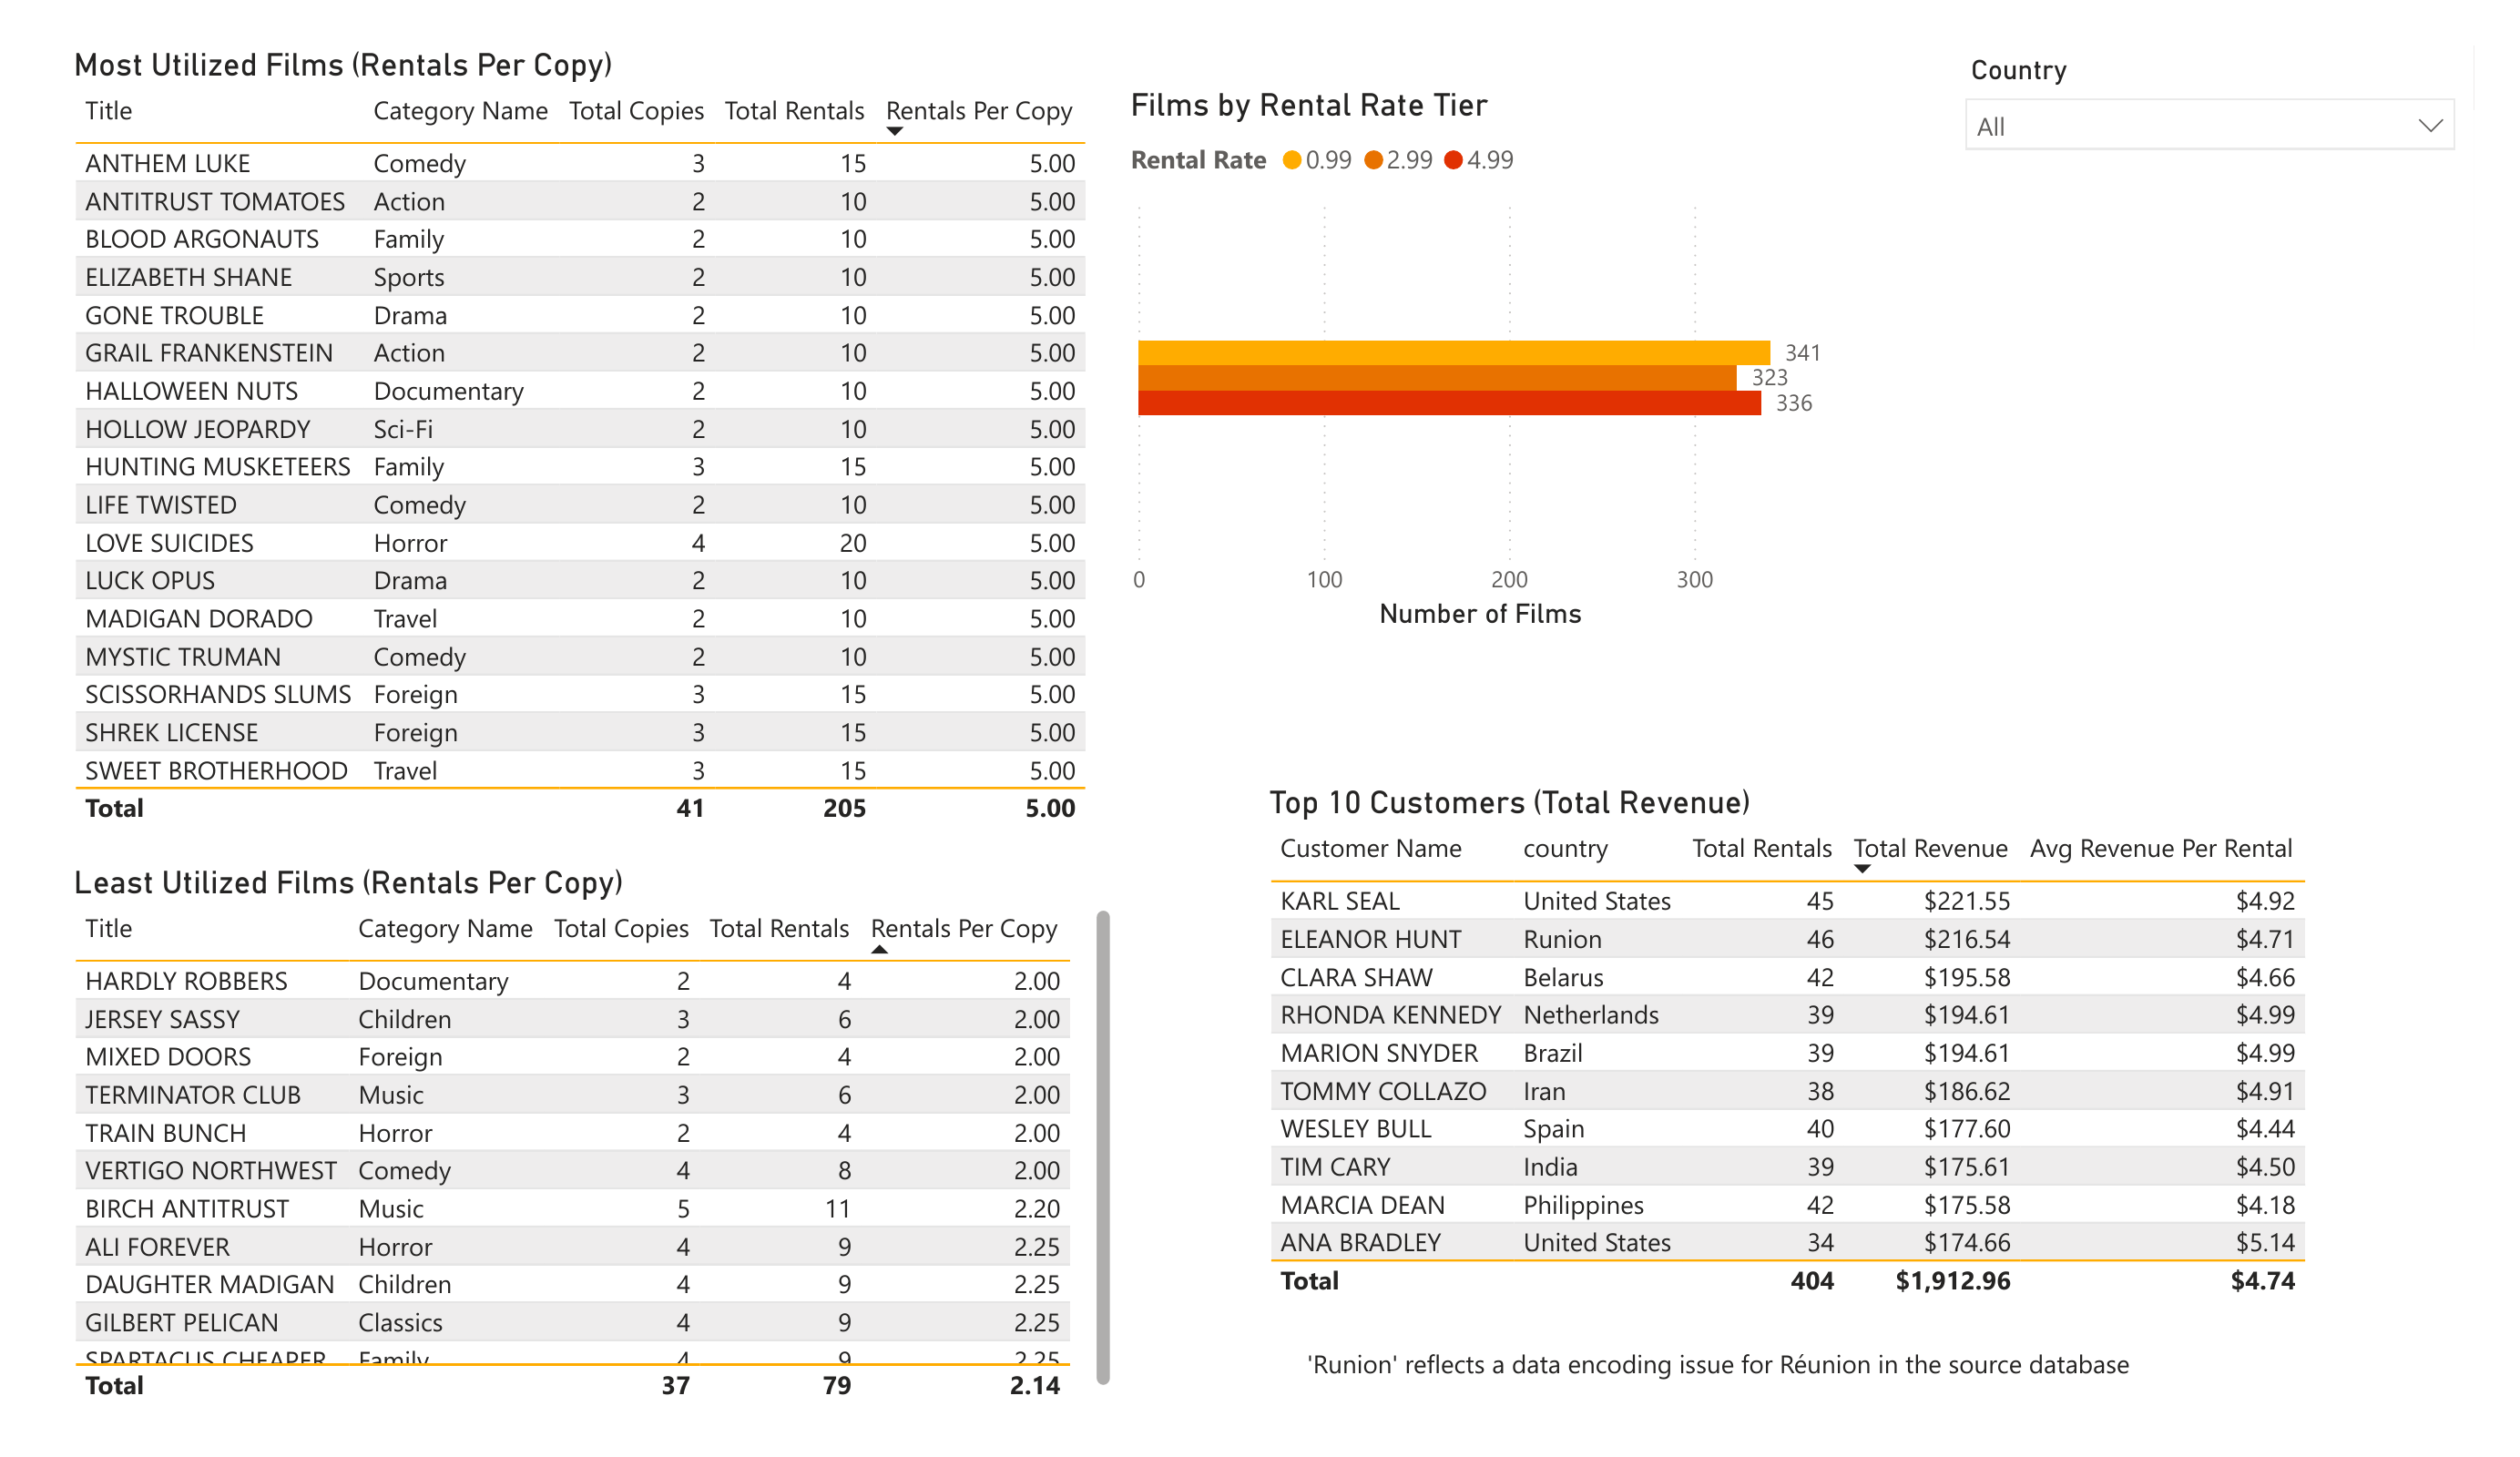

What the dashboard file says about the page in this screenshot:
{"tool":"powerbi","page":{"name":"Deep Dive","canvas":[1280,720],"ordinal":1},"visuals":[{"type":"tableEx","title":"Most Utilized Films (Rentals Per Copy)","fields":{"Values":["film.title","category.name","AllMeasures.Total Copies","AllMeasures.Total Rentals","AllMeasures.Rentals Per Copy"]},"box":[9.7,0,557.3,418.2],"z":0},{"type":"tableEx","title":"Least Utilized Films (Rentals Per Copy)","fields":{"Values":["film.title","category.name","AllMeasures.Total Copies","AllMeasures.Total Rentals","AllMeasures.Rentals Per Copy"]},"box":[9.7,430.9,557.3,288.9],"z":1},{"type":"tableEx","title":"Top 10 Customers (Total Revenue)","fields":{"Values":["customer.Customer Name","country.country","AllMeasures.Total Rentals","AllMeasures.Total Revenue","AllMeasures.Avg Revenue Per Rental"]},"box":[640,389,557,292],"z":2},{"type":"clusteredBarChart","title":"Films by Rental Rate Tier","fields":{"Series":["film.rental_rate"],"Y":["Count(film.film_id)"]},"box":[567.1,21.4,385.2,291.8],"z":3},{"type":"slicer","fields":{"Values":["country.country"]},"box":[1001.8,0,278.2,291.8],"z":4},{"type":"textbox","box":[660,681,456,39],"z":5}]}

Visuals, with their boxes on the page's 1280x720 design canvas (x1, y1, x2, y2). These are canvas units, not pixel positions in the 2520x1457 screenshot, which may show the page scaled, cropped or inside an application window:
"Most Utilized Films (Rentals Per Copy)" tableEx: bbox=(10, 0, 567, 418)
"Least Utilized Films (Rentals Per Copy)" tableEx: bbox=(10, 431, 567, 720)
"Top 10 Customers (Total Revenue)" tableEx: bbox=(640, 389, 1197, 681)
"Films by Rental Rate Tier" clusteredBarChart: bbox=(567, 21, 952, 313)
slicer - country.country: bbox=(1002, 0, 1280, 292)
textbox: bbox=(660, 681, 1116, 720)
